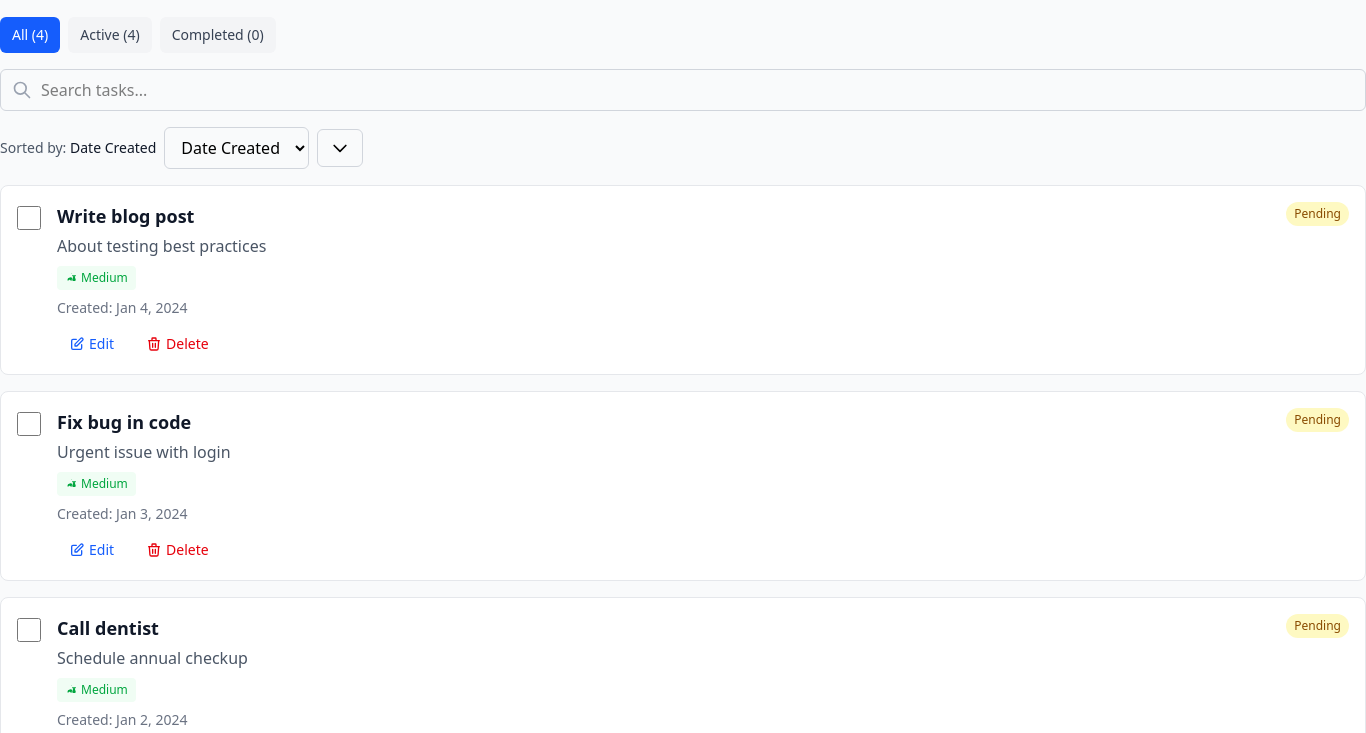
User Story 2.4: Search Tasks UI › Clear Search Button › should show all tasks after clearing search
This screenshot has width=1366, height=733.
Type "groceries" into the search field at (683, 90), box [0,69,1365,111]
Wait 300 ms
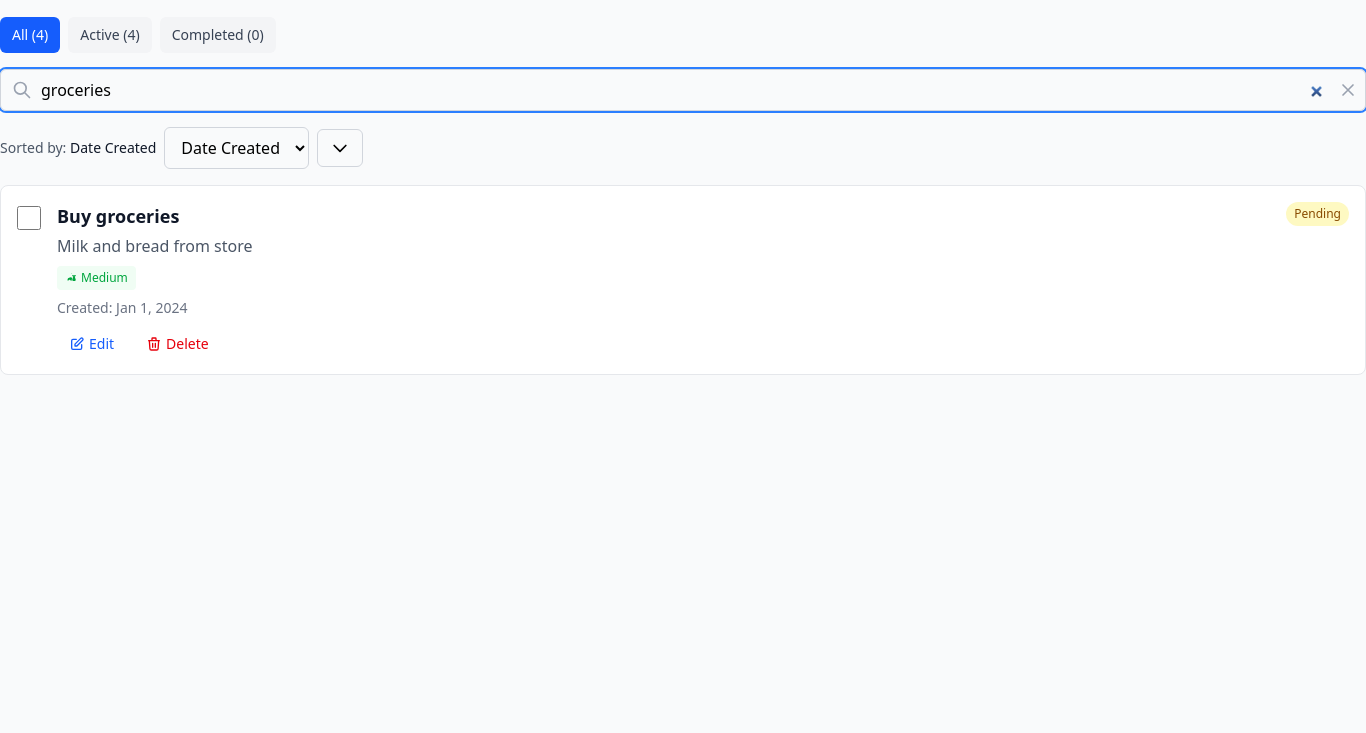
Expected: the heading "Call dentist" is gone
Click the button named "clear search" at (1348, 90), box [1338,80,1358,100]
Wait 300 ms
(page scrolled)
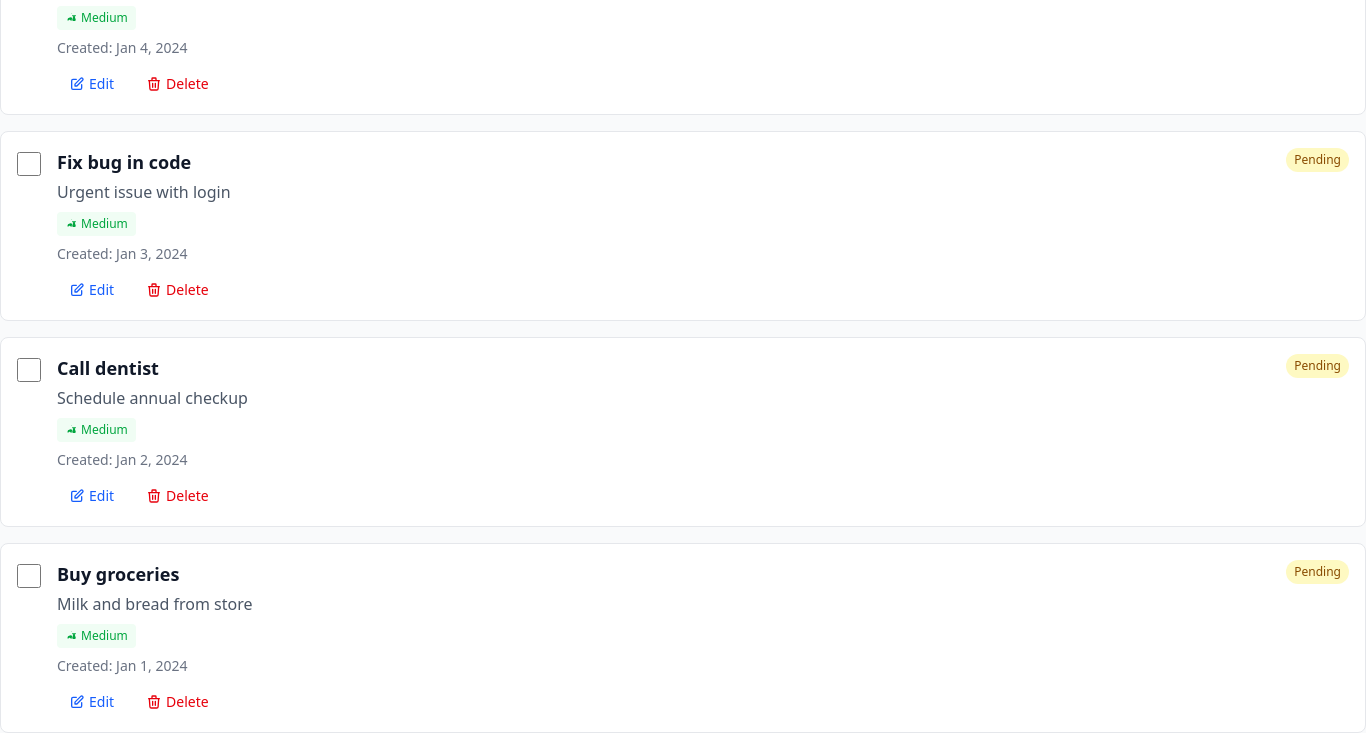
Expected: the heading "Buy groceries" is shown, [57,560,179,588]
Expected: the heading "Call dentist" is shown, [57,354,159,382]
